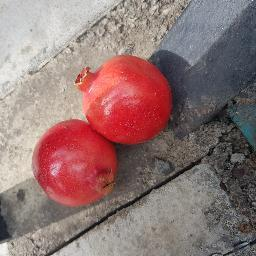Good_pomegranate: (89, 54, 173, 144), (28, 121, 118, 204)
